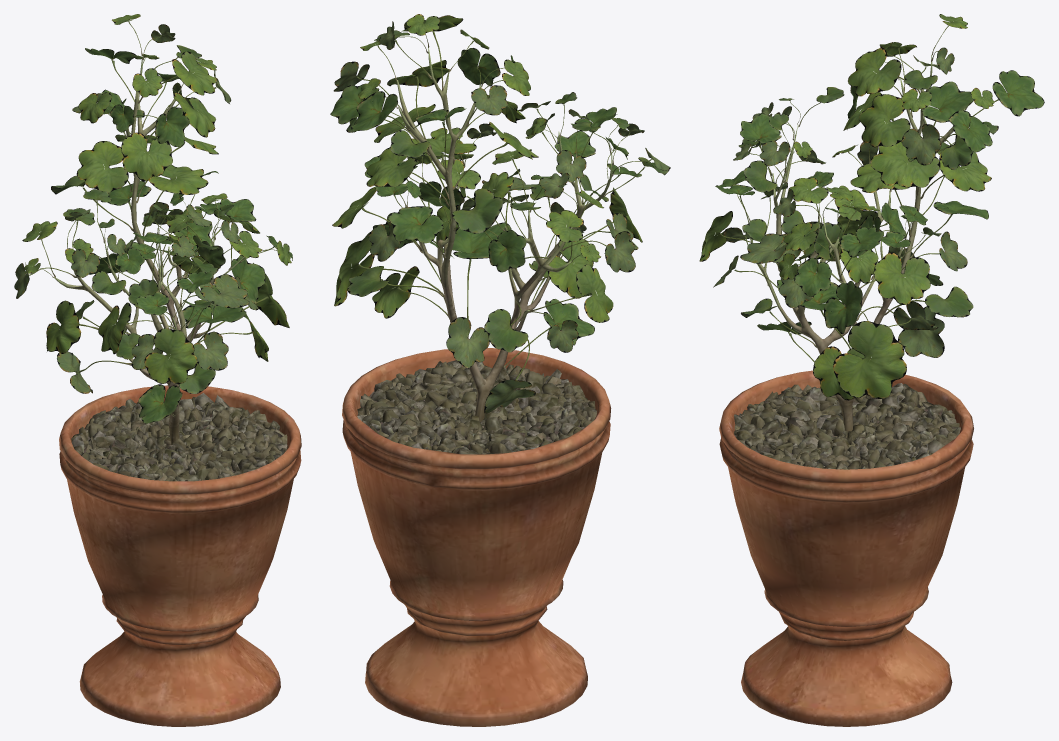
File: pot2.glb
3 views of the same model, side by side, from view 1: azimuth 30°, elevation 25°; view 2: azimuth 150°, elevation 25°; view 3: azimuth 270°, elevation 25° (orthographic). The views are drawn at different scales.
Parts seen in each view (by area): view 1: potted_plant_01_pot, potted_plant_01_leaves, potted_plant_01_pebbles, potted_plant_01_stem; view 2: potted_plant_01_pot, potted_plant_01_leaves, potted_plant_01_pebbles, potted_plant_01_stem; view 3: potted_plant_01_pot, potted_plant_01_leaves, potted_plant_01_pebbles, potted_plant_01_stem.
Part boxes in pixels (left/top/right/bottom): potted_plant_01_pot: left=59, top=385, right=301, bottom=726; potted_plant_01_leaves: left=14, top=14, right=292, bottom=423; potted_plant_01_pebbles: left=71, top=393, right=287, bottom=481; potted_plant_01_stem: left=53, top=54, right=244, bottom=444; potted_plant_01_pot: left=342, top=348, right=611, bottom=726; potted_plant_01_leaves: left=330, top=14, right=670, bottom=413; potted_plant_01_pebbles: left=357, top=360, right=596, bottom=454; potted_plant_01_stem: left=396, top=47, right=612, bottom=422; potted_plant_01_pot: left=719, top=370, right=973, bottom=726; potted_plant_01_leaves: left=699, top=14, right=1044, bottom=400; potted_plant_01_pebbles: left=734, top=383, right=960, bottom=469; potted_plant_01_stem: left=750, top=55, right=965, bottom=432.
Size of the model in its own units: 0.5851 by 1.34 by 0.6294.
2 materials, 2 textured.
